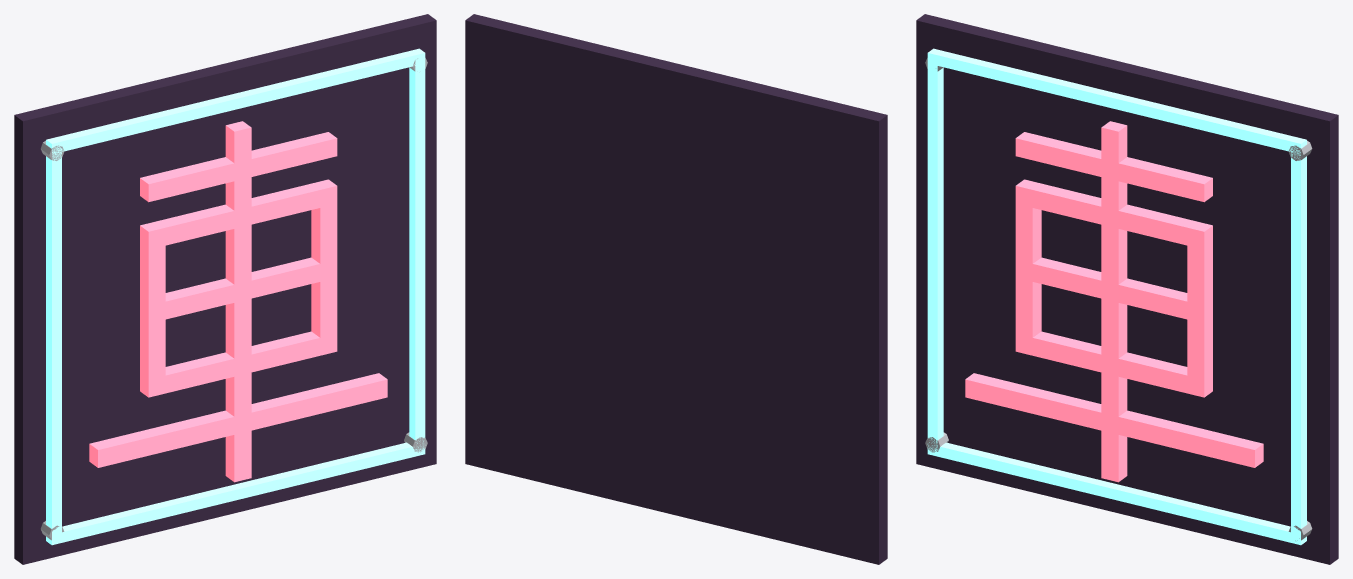
File: jp_neon_kanji.glb
3 views of the same model, side by side, from view 1: azimuth 30°, elevation 25°; view 2: azimuth 150°, elevation 25°; view 3: azimuth 330°, elevation 25° (orthographic).
Parts seen in each view (by area): view 1: jp_neon_kanji; view 2: jp_neon_kanji; view 3: jp_neon_kanji.
Part boxes in pixels (<box>): jp_neon_kanji: <box>14,14,436,564</box>; jp_neon_kanji: <box>465,14,887,564</box>; jp_neon_kanji: <box>916,14,1338,564</box>.
Size of the model in its own units: 0.82 by 0.84 by 0.075.
